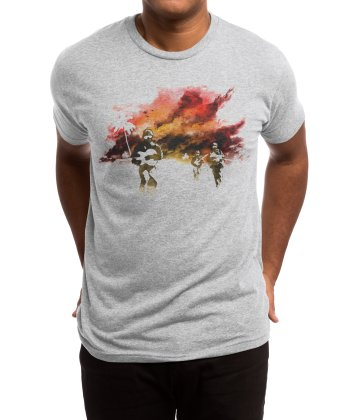design: (95, 80, 253, 193)
